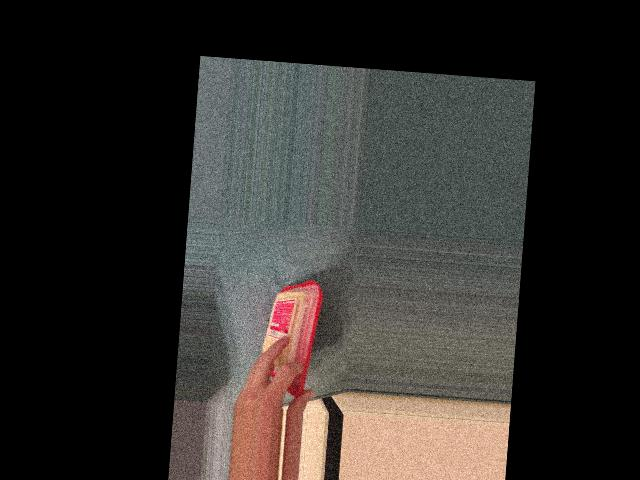cheese: (249, 275, 325, 399)
